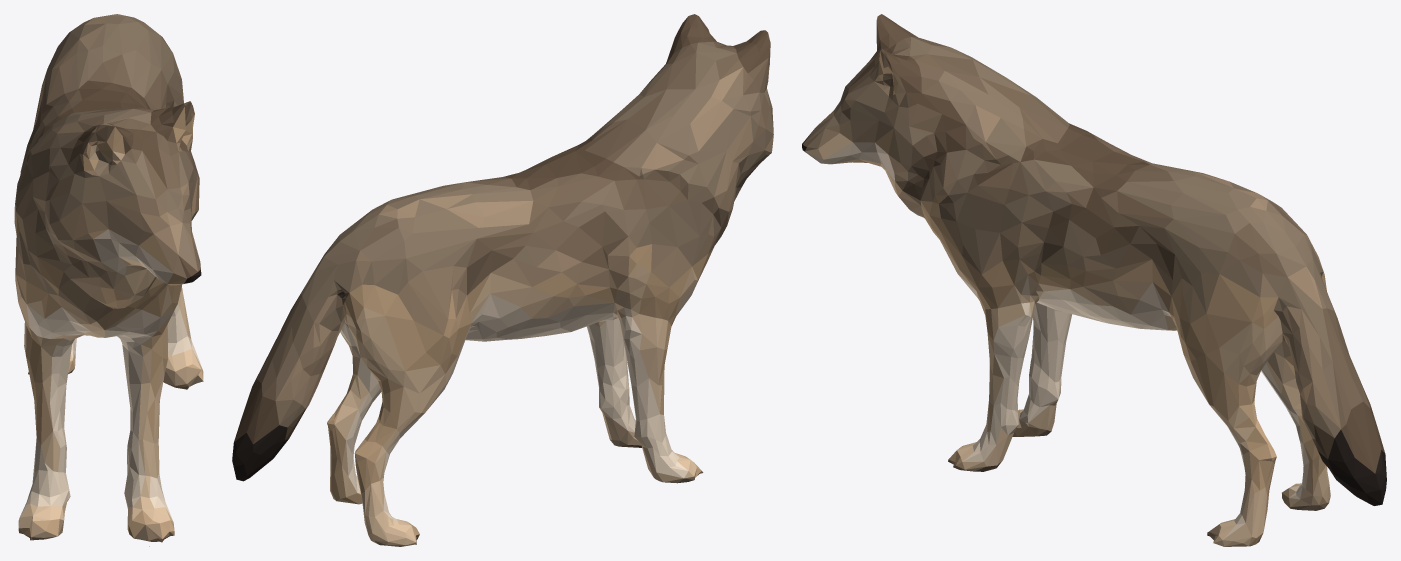
The model's file is wild-wolf.glb.
3 views of the same model, side by side, from view 1: azimuth 30°, elevation 25°; view 2: azimuth 150°, elevation 25°; view 3: azimuth 270°, elevation 25° (orthographic). The views are drawn at different scales.
Visible parts, largest first — view 1: low-poly-wolf; view 2: low-poly-wolf; view 3: low-poly-wolf.
Part boxes in pixels (box(x1,y1,x2,y2)): low-poly-wolf: box(14, 14, 203, 546); low-poly-wolf: box(232, 14, 773, 546); low-poly-wolf: box(802, 14, 1386, 546).
Size of the model in its own units: 1.1 by 1.31 by 1.7.
1 material, 1 textured.
